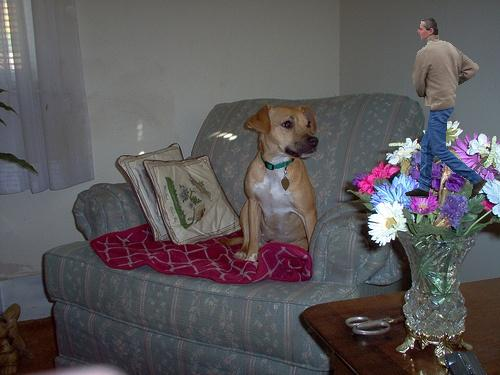tampered: (406, 19, 486, 200)
